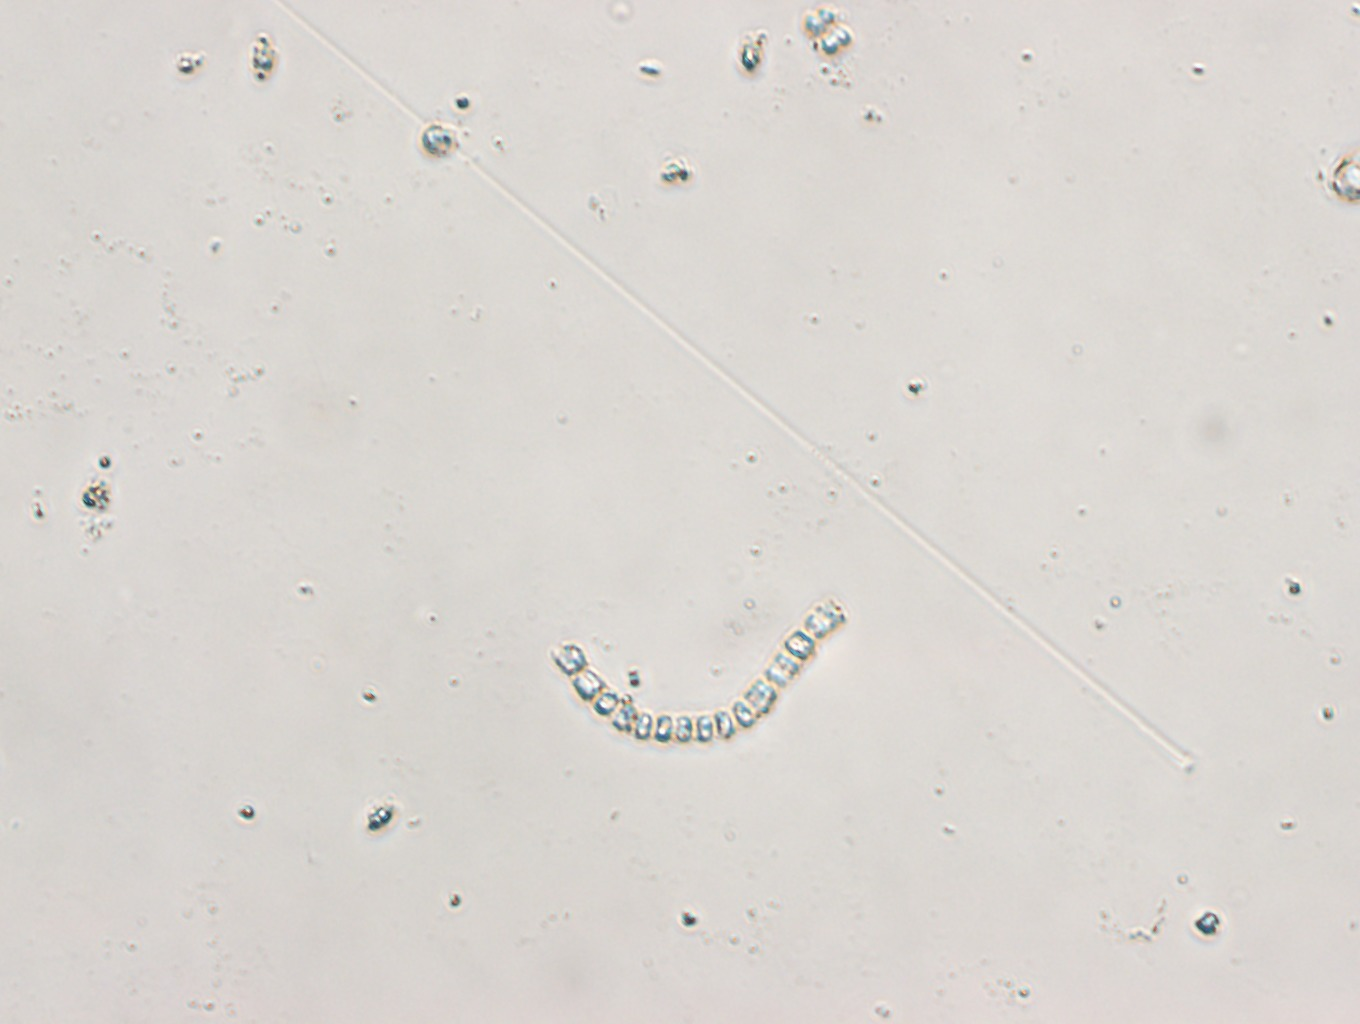skeletonema: (550, 594, 854, 749)
